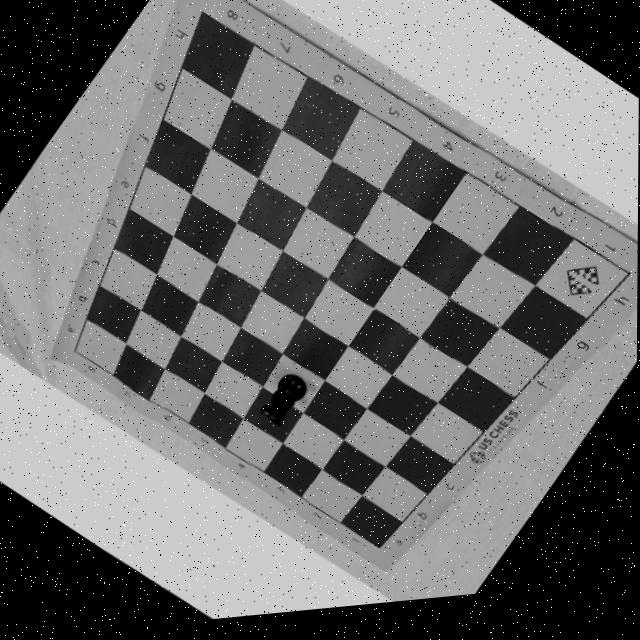chessboard: (77, 16, 632, 553)
